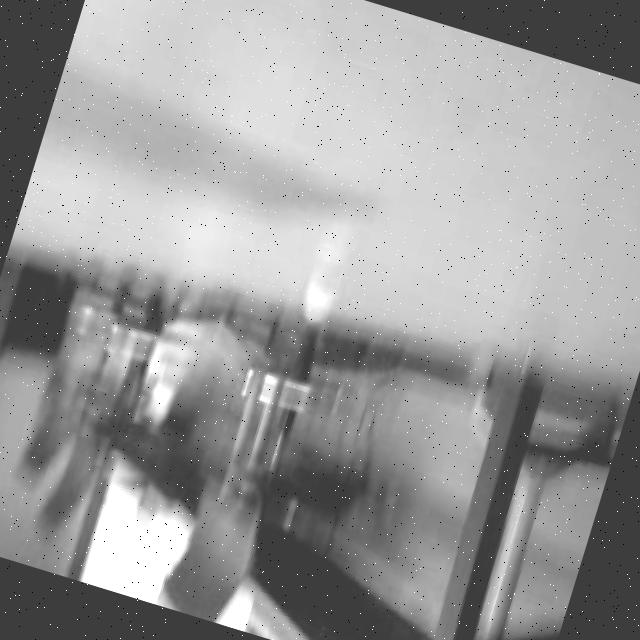ping-pong-ball: (293, 255, 343, 329)
